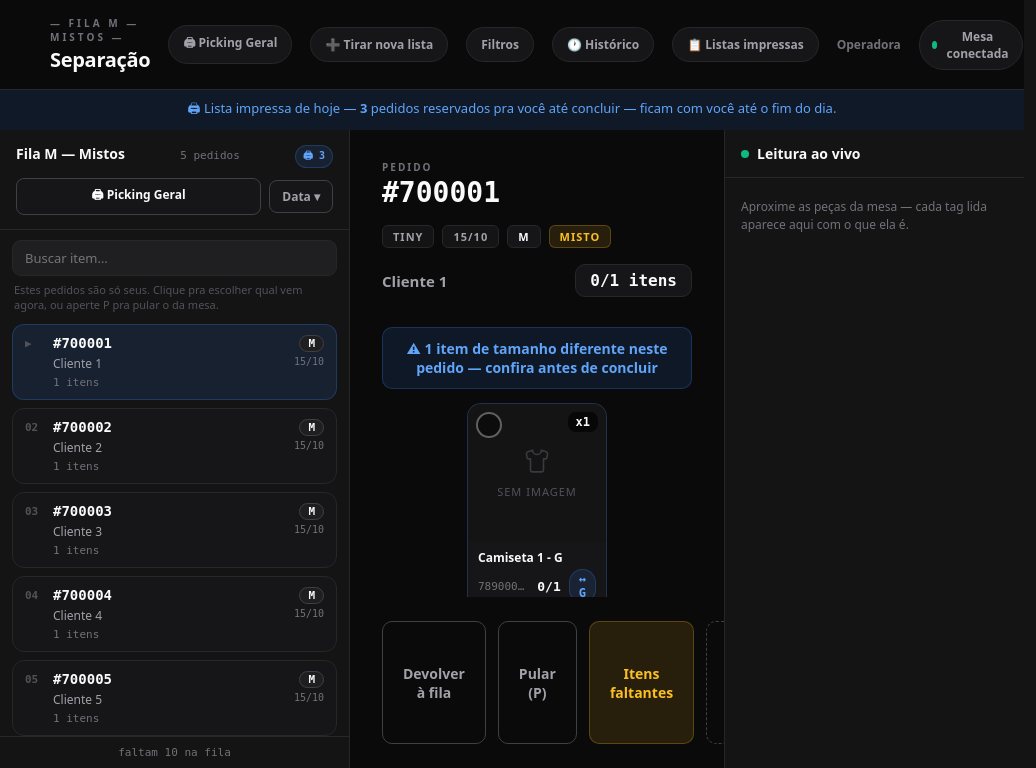
Test: Tirar nova lista (mistos) › nexus sem novaLista (resposta sem `novos`) devolve o que ele puxou sem folha e avisa
The image size is (1036, 768).
Click the button "➕ Tirar nova lista".
click(379, 44)  # box 310,27 -> 448,62
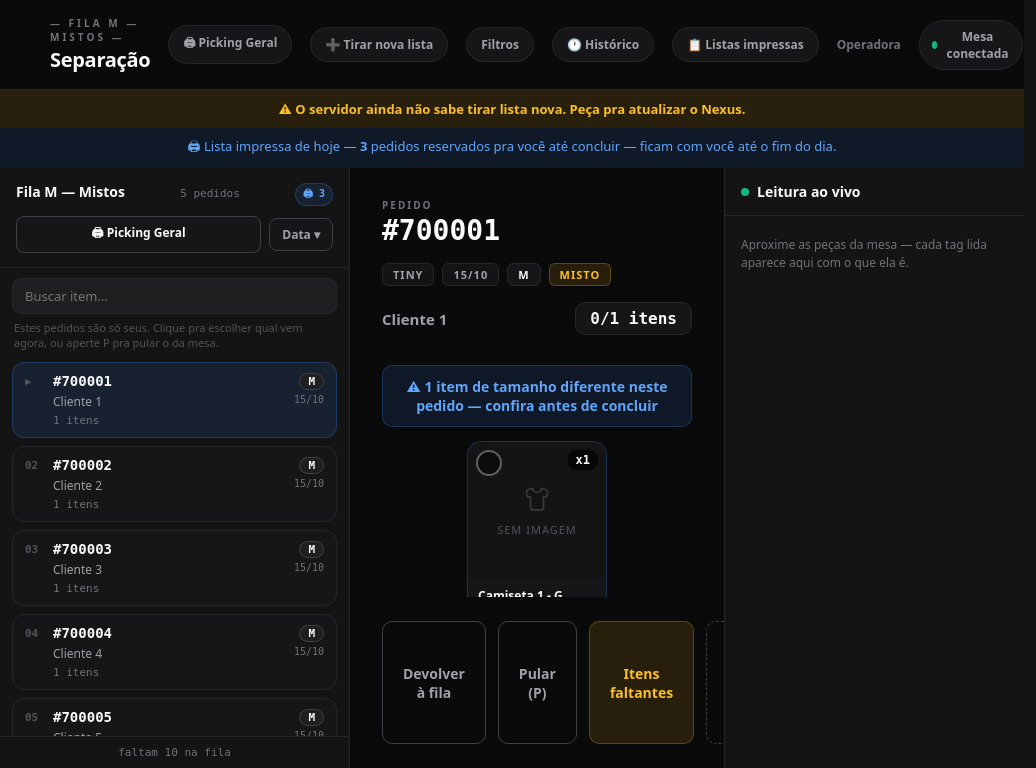
Result: the text "ainda não sabe tirar lista nova" is shown at 295,100 -> 745,118
